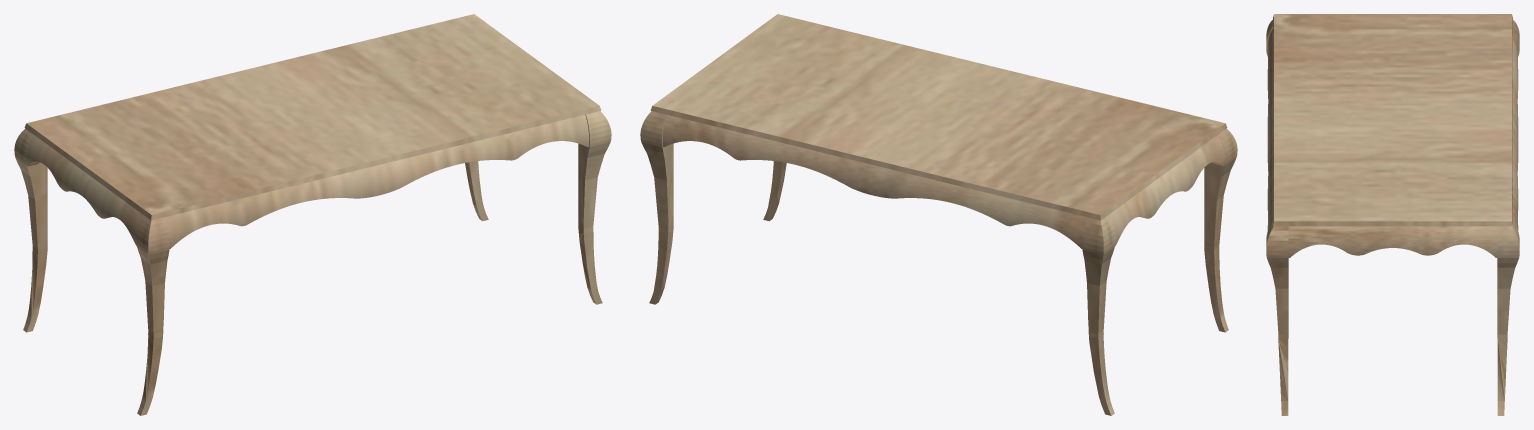
Rendered from table_1.glb.
3 renders of one model, left to right at view 1: azimuth 30°, elevation 25°; view 2: azimuth 150°, elevation 25°; view 3: azimuth 270°, elevation 25°, orthographic. The views are drawn at different scales.
Visible parts, largest first — view 1: root; view 2: root; view 3: root.
Part boxes in pixels (<box>): root: <box>14,14,611,415</box>; root: <box>640,14,1237,415</box>; root: <box>1266,14,1519,415</box>.
Size of the model in its own units: 1.8 by 0.75 by 0.9.
Materials: 2 (1 with a texture image).
